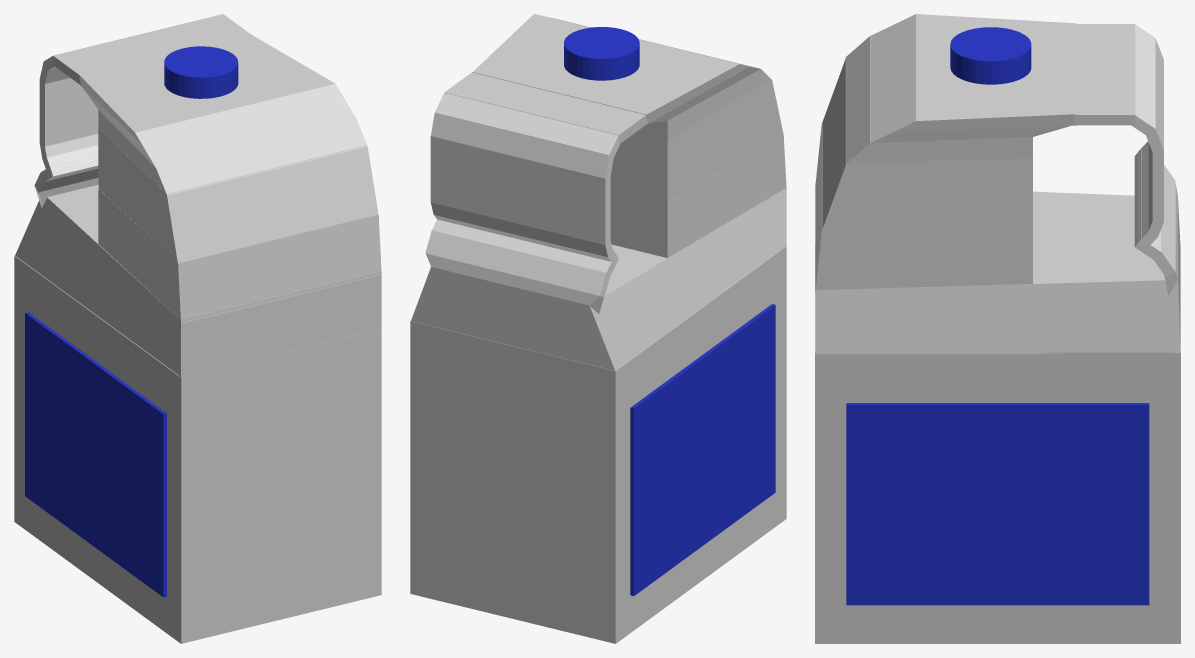
Rendered from milk bottle.fbx.
The picture shows the model from 3 angles, left to right: view 1: azimuth 30°, elevation 25°; view 2: azimuth 150°, elevation 25°; view 3: azimuth 270°, elevation 25°; orthographic projection. The views are drawn at different scales.
Visible parts, largest first — view 1: Cylinder; view 2: Cylinder; view 3: Cylinder.
Boxes of the visible parts, x1,y1,x2,y2 form: Cylinder: (14, 14, 381, 643); Cylinder: (410, 14, 786, 643); Cylinder: (815, 14, 1180, 643).
Size of the model in its own units: 97.99 by 225 by 136.
